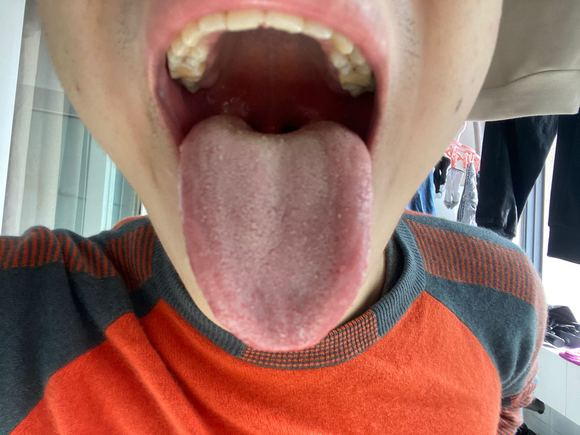baitaishe: (179, 115, 372, 352)
shenquao: (224, 115, 323, 148)
